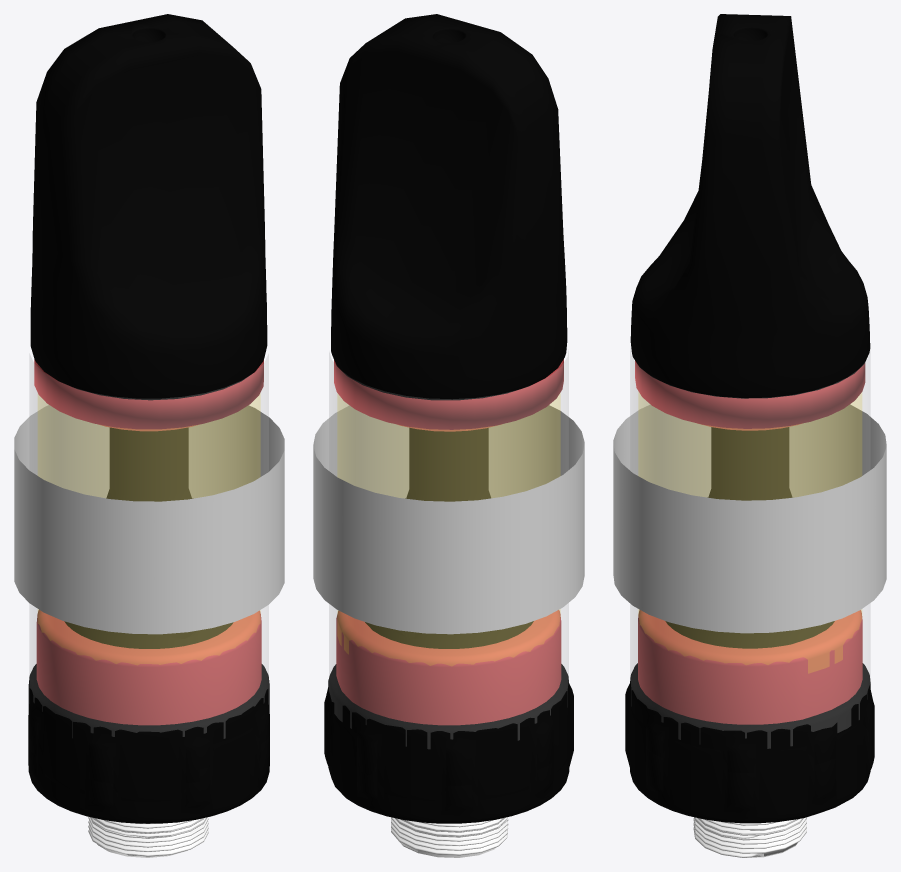
3 views of the same model, side by side, from view 1: azimuth 30°, elevation 25°; view 2: azimuth 150°, elevation 25°; view 3: azimuth 270°, elevation 25° (orthographic).
Visible parts, largest first — view 1: Cube.086, Cylinder.012, Glass.012, Glass.013, Rubber bottom Color.006, Bottom cap.001, Bottom cap.006, Coil.006, Rubber top color.006, Thread.006, Thread.001; view 2: Cube.086, Cylinder.012, Glass.012, Glass.013, Rubber bottom Color.006, Bottom cap.001, Bottom cap.006, Coil.006, Rubber top color.006, Thread.006, Thread.001; view 3: Cube.086, Cylinder.012, Glass.012, Glass.013, Rubber bottom Color.006, Bottom cap.006, Bottom cap.001, Coil.006, Rubber top color.006, Thread.006, Thread.001.
Part boxes in pixels (x1=…): Cube.086: x1=30, y1=14, x2=267, y2=400; Cylinder.012: x1=14, y1=405, x2=284, y2=634; Glass.012: x1=29, y1=354, x2=268, y2=738; Glass.013: x1=38, y1=395, x2=259, y2=664; Rubber bottom Color.006: x1=36, y1=610, x2=261, y2=725; Bottom cap.001: x1=28, y1=664, x2=269, y2=801; Bottom cap.006: x1=28, y1=704, x2=269, y2=823; Coil.006: x1=64, y1=427, x2=233, y2=648; Rubber top color.006: x1=34, y1=359, x2=263, y2=431; Thread.006: x1=88, y1=817, x2=208, y2=857; Thread.001: x1=90, y1=817, x2=205, y2=838; Cube.086: x1=331, y1=14, x2=567, y2=400; Cylinder.012: x1=313, y1=405, x2=584, y2=634; Glass.012: x1=329, y1=351, x2=568, y2=748; Glass.013: x1=338, y1=395, x2=559, y2=665; Rubber bottom Color.006: x1=336, y1=610, x2=561, y2=725; Bottom cap.001: x1=324, y1=664, x2=573, y2=801; Bottom cap.006: x1=324, y1=716, x2=573, y2=823; Coil.006: x1=365, y1=428, x2=533, y2=648; Rubber top color.006: x1=334, y1=359, x2=563, y2=431; Thread.006: x1=391, y1=817, x2=508, y2=857; Thread.001: x1=396, y1=817, x2=507, y2=837; Cube.086: x1=630, y1=14, x2=870, y2=398; Cylinder.012: x1=613, y1=404, x2=886, y2=633; Glass.012: x1=630, y1=349, x2=870, y2=748; Glass.013: x1=639, y1=393, x2=861, y2=672; Rubber bottom Color.006: x1=638, y1=610, x2=862, y2=724; Bottom cap.006: x1=625, y1=704, x2=874, y2=823; Bottom cap.001: x1=625, y1=663, x2=874, y2=772; Coil.006: x1=665, y1=427, x2=834, y2=648; Rubber top color.006: x1=635, y1=361, x2=865, y2=430; Thread.006: x1=693, y1=817, x2=806, y2=857; Thread.001: x1=694, y1=817, x2=802, y2=838.
Bounding box in the file's own units: 0.3013 × 0.9872 × 0.3044.
7 materials, 1 textured.
